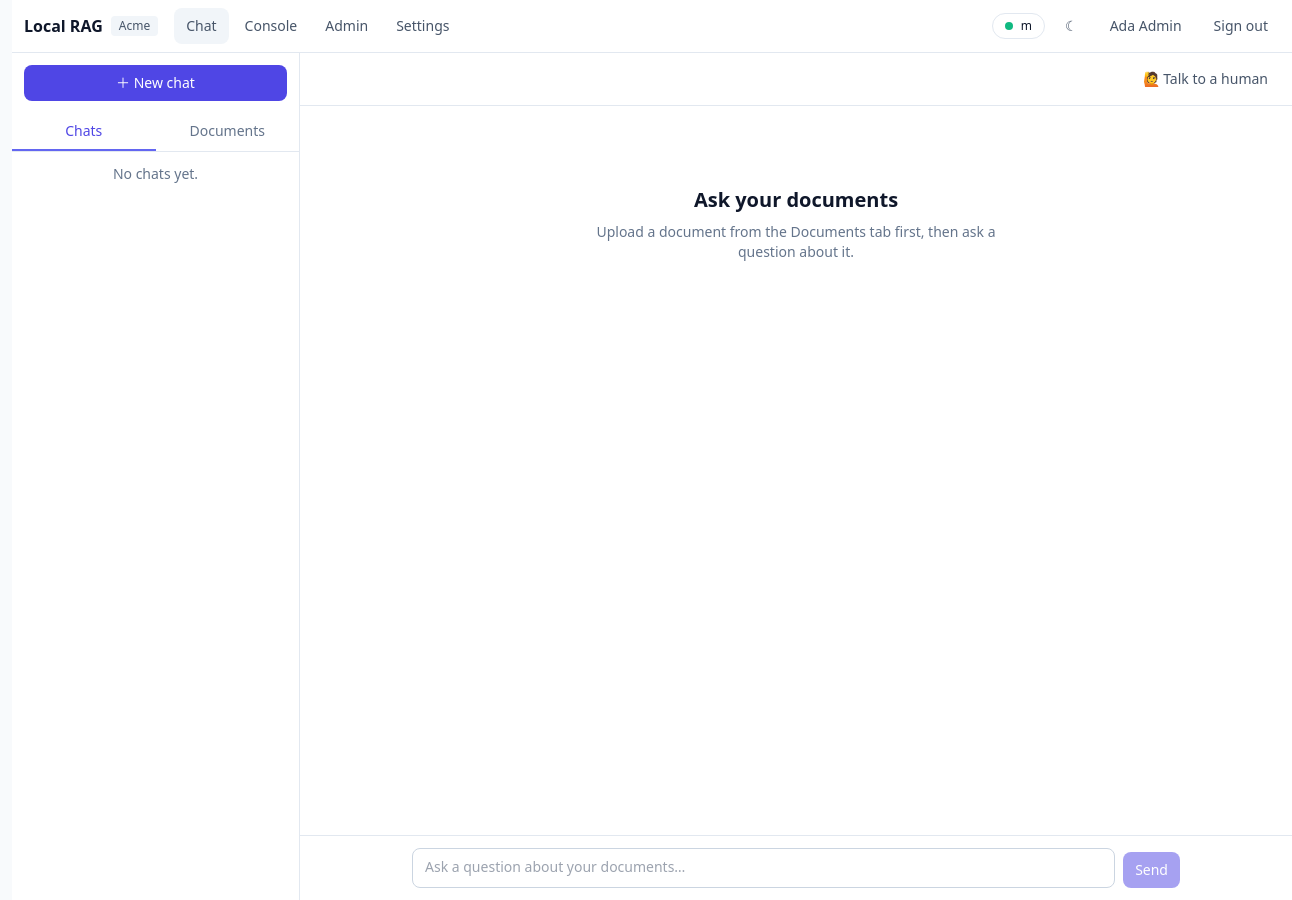
App navigation follows permissions › shows the organization and signs out through the API
expect the text titled "Your organization" reads "Acme": met, box [119,17,150,34]
Click the button "Sign out".
click(1241, 26)  # box [1202,8,1280,44]
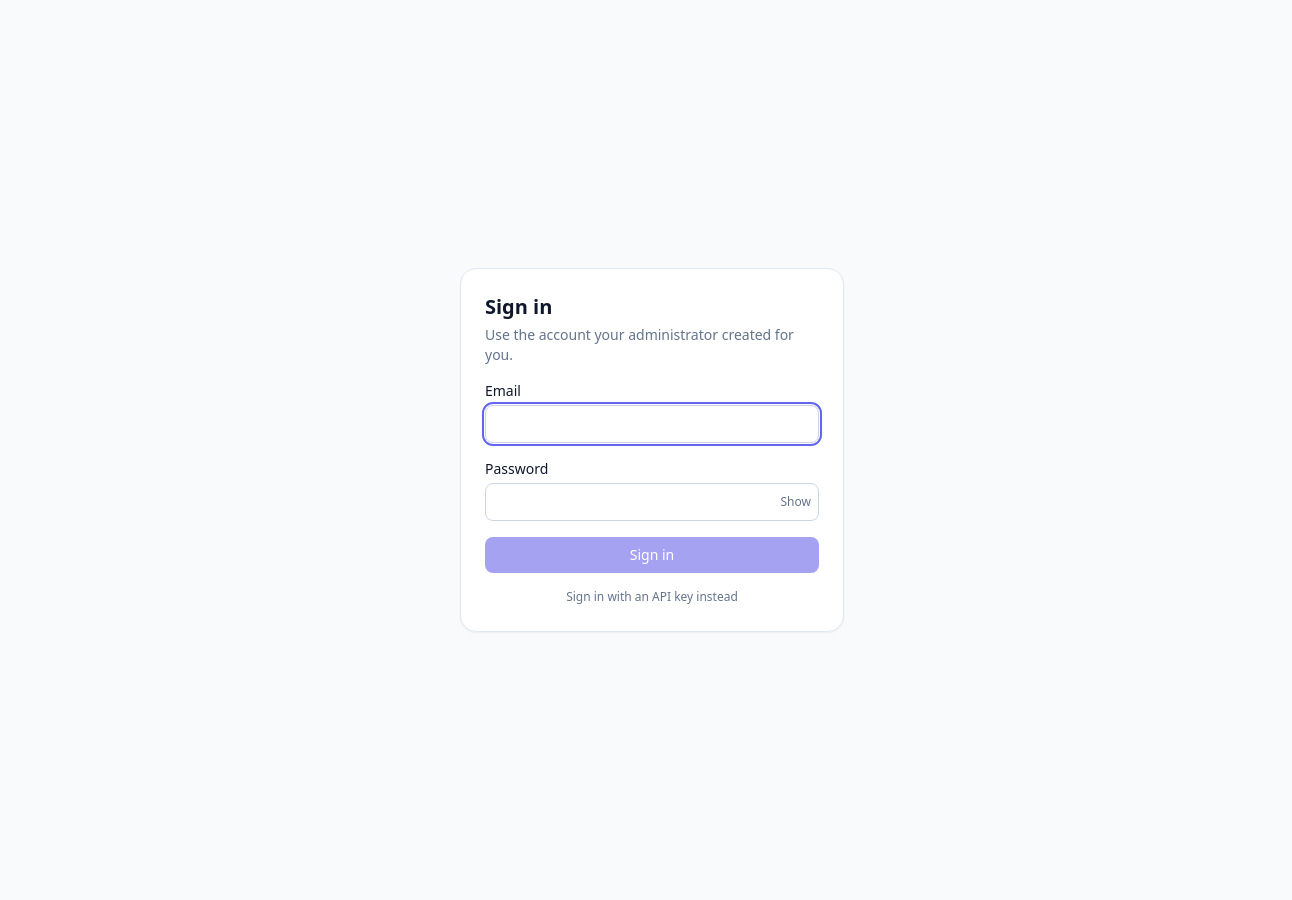
expect the heading "Sign in" is shown: met, box [485,293,552,320]
